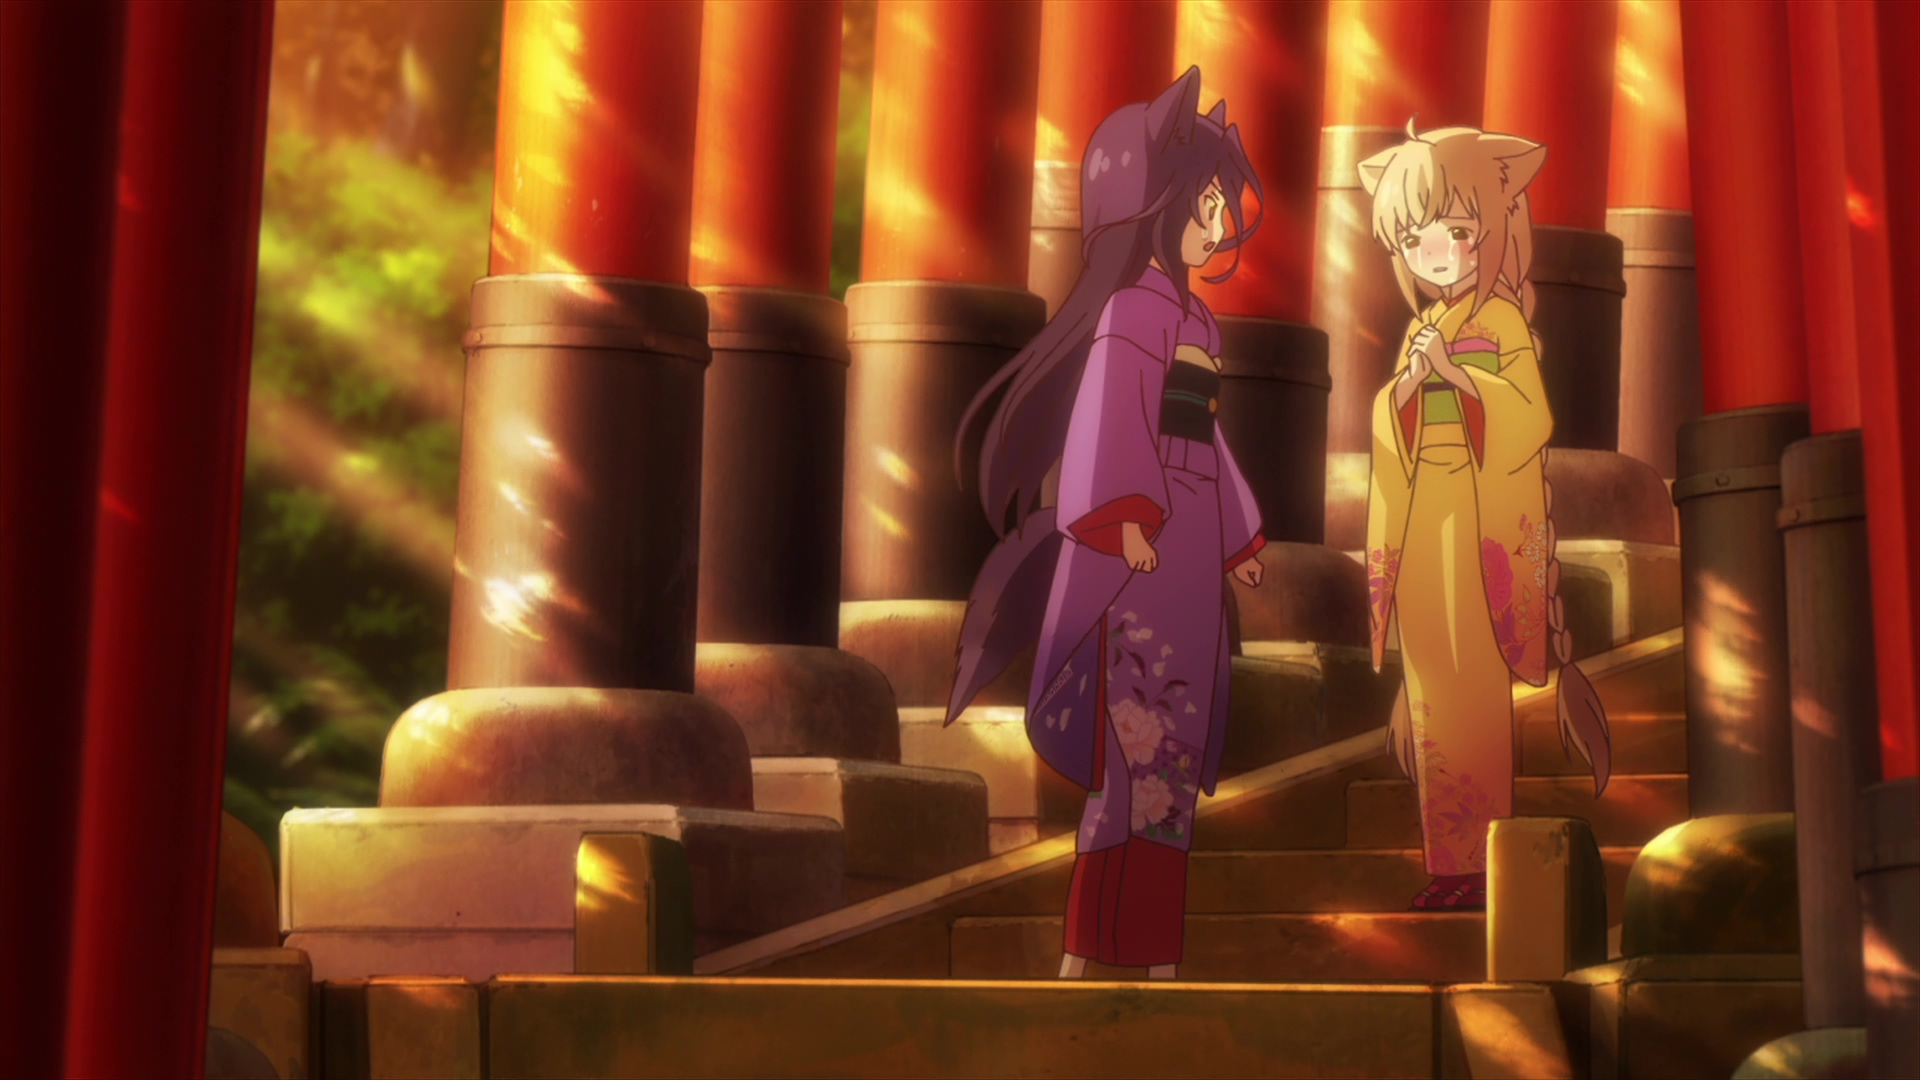柚: (1356, 115, 1611, 909)
皋: (945, 65, 1266, 980)
